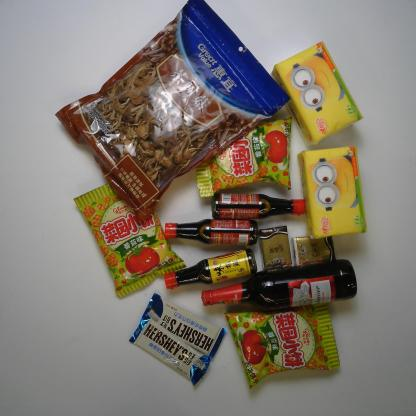Alcohol: (199, 257, 358, 312)
Chocolate: (128, 314, 214, 388), (141, 291, 228, 360)
Dried Food: (52, 2, 293, 224)
Puffed Food: (72, 178, 188, 301), (224, 300, 344, 392), (193, 112, 294, 198)
Seasoner: (162, 247, 258, 292), (163, 217, 259, 249), (209, 190, 307, 221)
Tissue: (268, 38, 366, 146), (296, 145, 368, 241), (290, 232, 338, 268), (257, 223, 293, 270)
